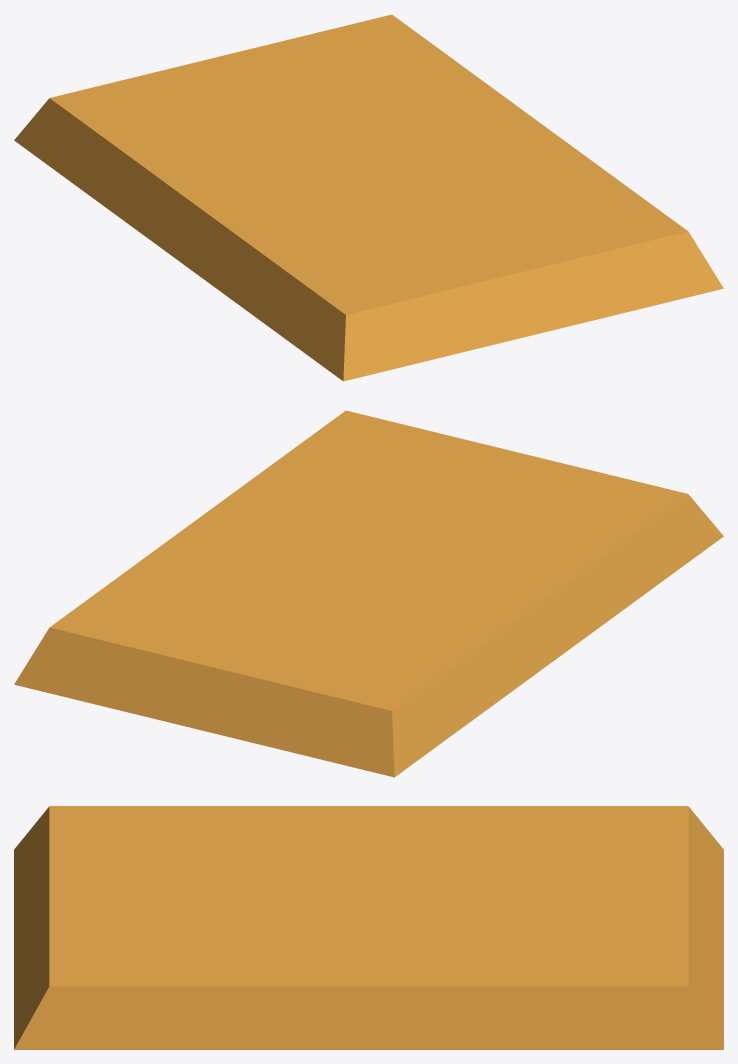
File: superalloy.fbx
The picture shows the model from 3 angles, top to bottom: view 1: azimuth 30°, elevation 25°; view 2: azimuth 150°, elevation 25°; view 3: azimuth 270°, elevation 25°; orthographic projection. The views are drawn at different scales.
Parts seen in each view (by area): view 1: superalloy; view 2: superalloy; view 3: superalloy.
Part boxes in pixels (x1,y1,x2,y2): superalloy: (14,14,723,381); superalloy: (14,410,723,777); superalloy: (14,806,723,1049).
Bounding box in the file's own units: 0.4001 × 0.05 × 0.5998.
